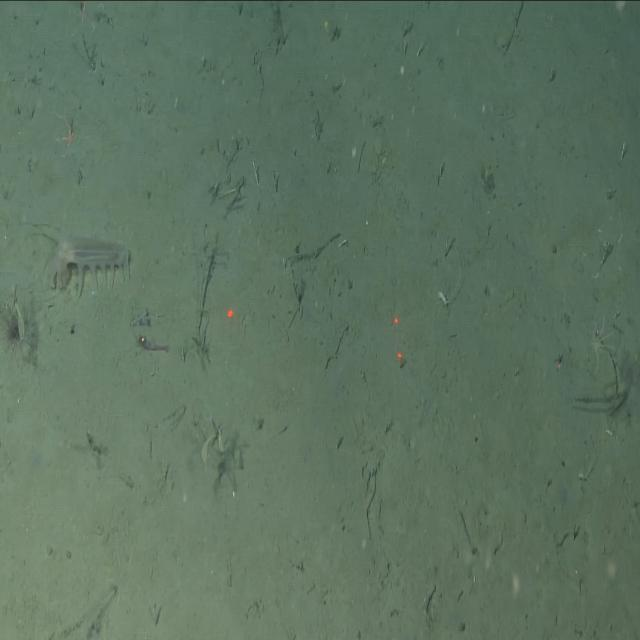Brittle Star: (49, 105, 89, 161)
Not Brittle Star: (31, 209, 136, 303), (429, 237, 467, 321), (578, 307, 620, 372), (0, 292, 30, 362), (134, 326, 171, 362)
